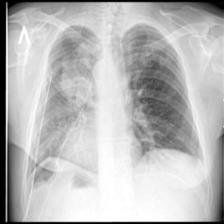tuberculosis: (22, 19, 212, 201)
